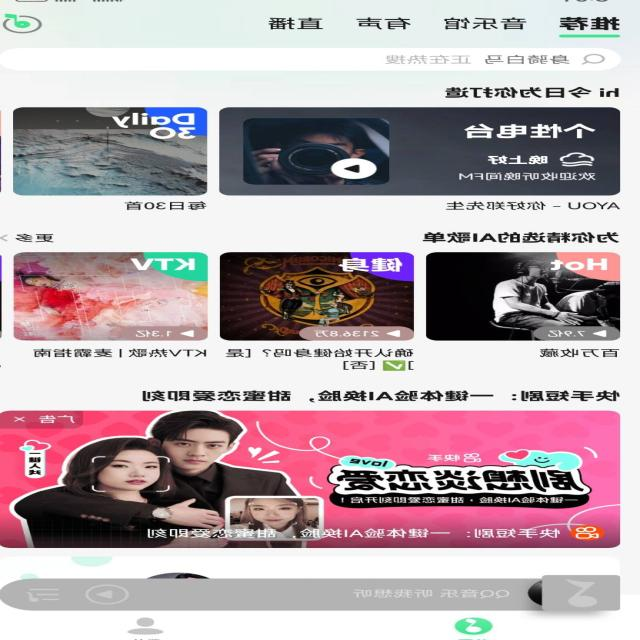SearchBar: (0, 44, 629, 73)
